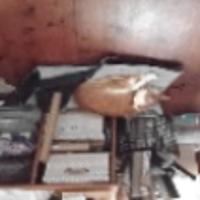asleep: (72, 70, 170, 118)
